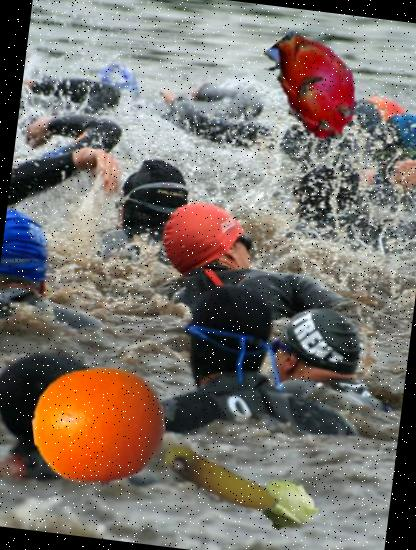Banana: (149, 414, 287, 550)
Grapefruit: (25, 354, 173, 502)
Kohlrabi: (253, 472, 322, 541)
Pitahaya: (252, 21, 380, 149)
